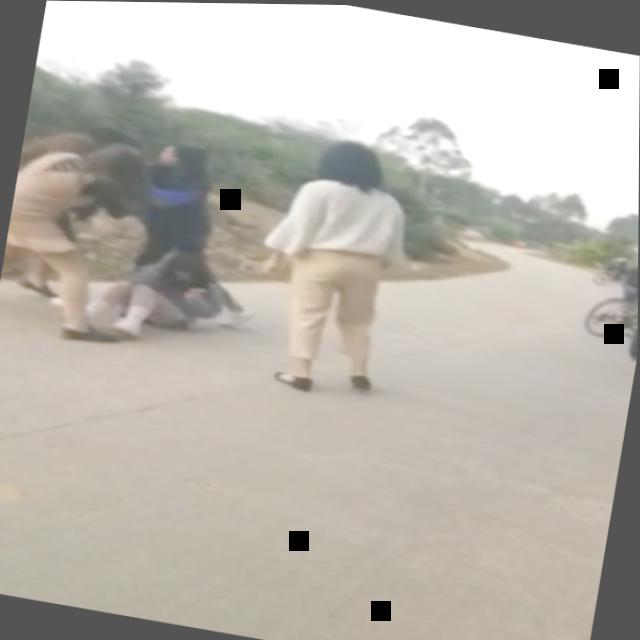Fall-Detected: (0, 221, 261, 365)
